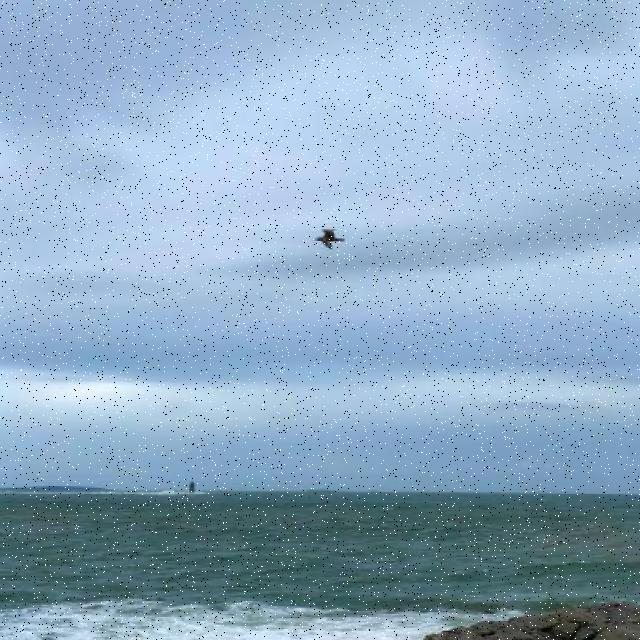bird: (314, 228, 346, 249)
